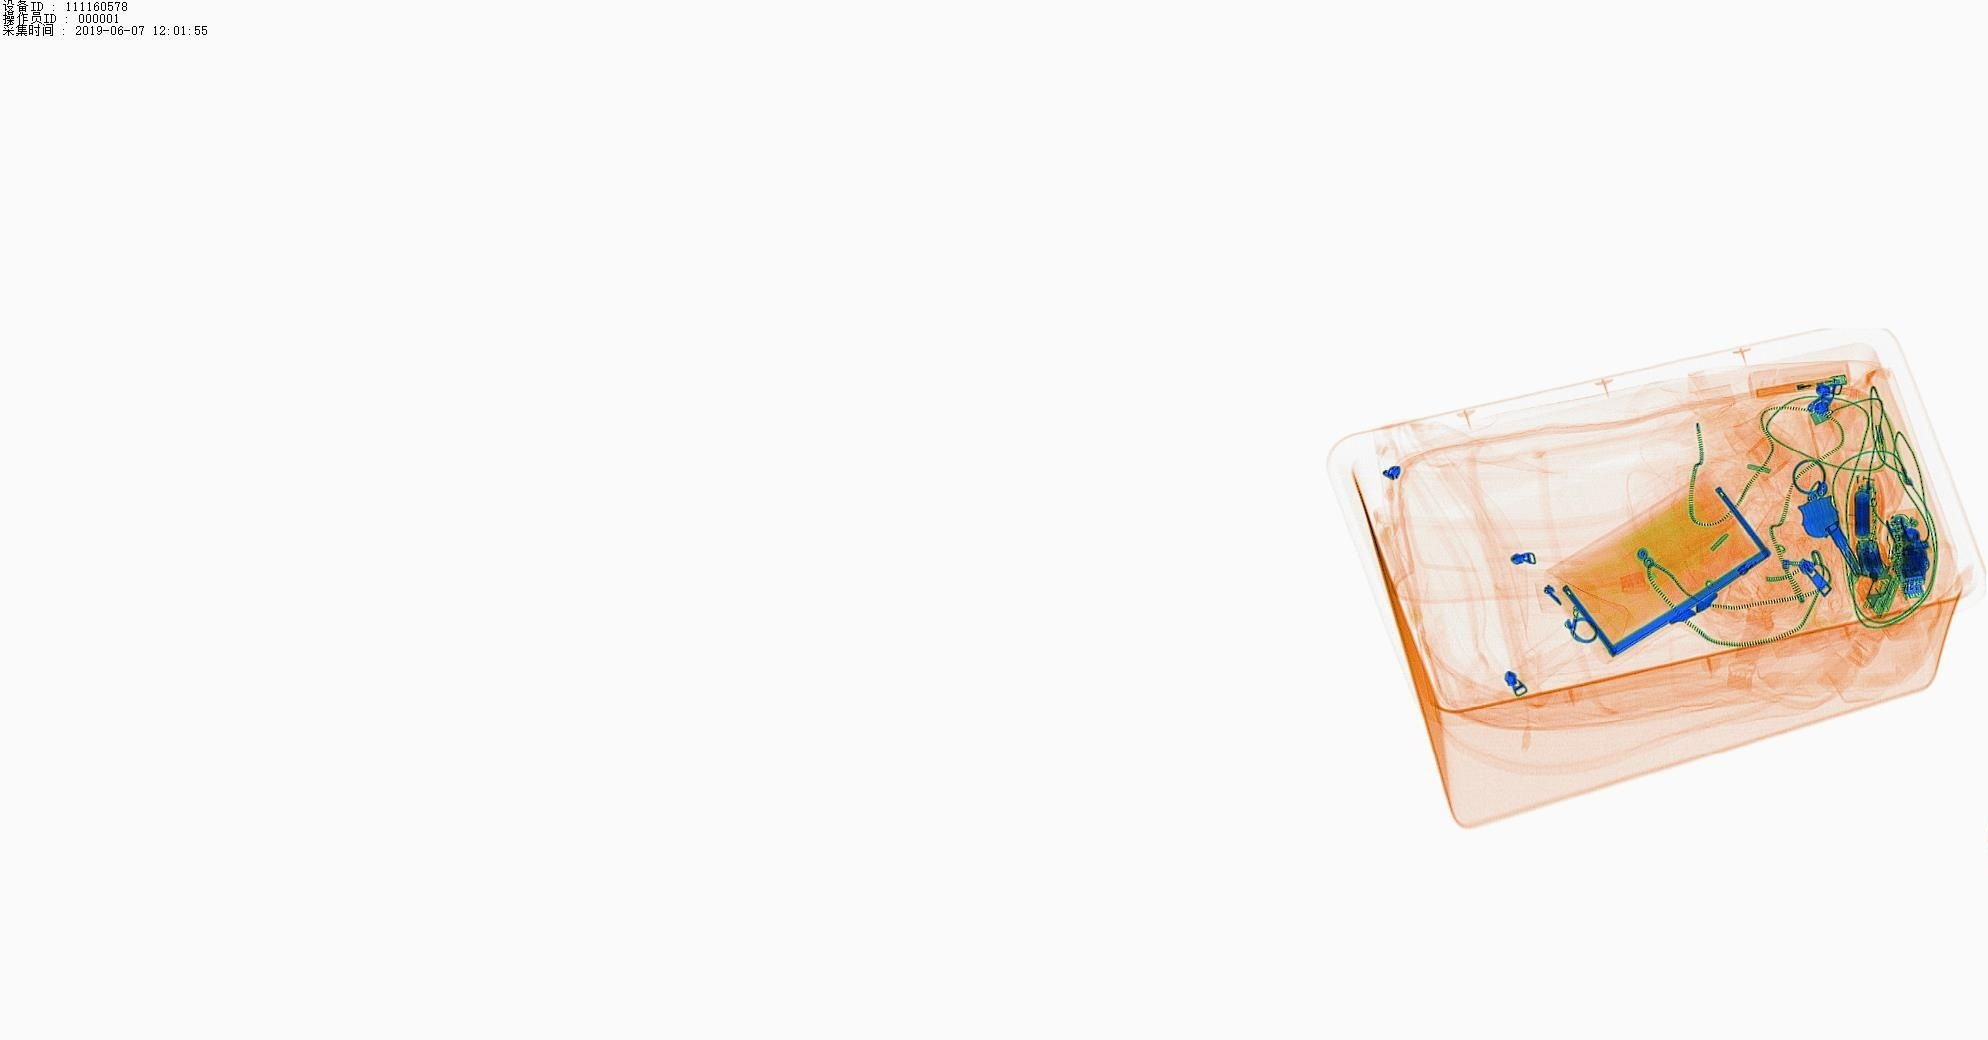NonmetallicFire: (1738, 358, 1903, 408)
